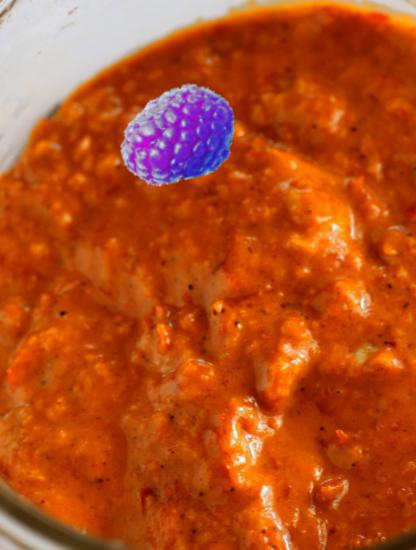Raspberry: (117, 74, 239, 196)
